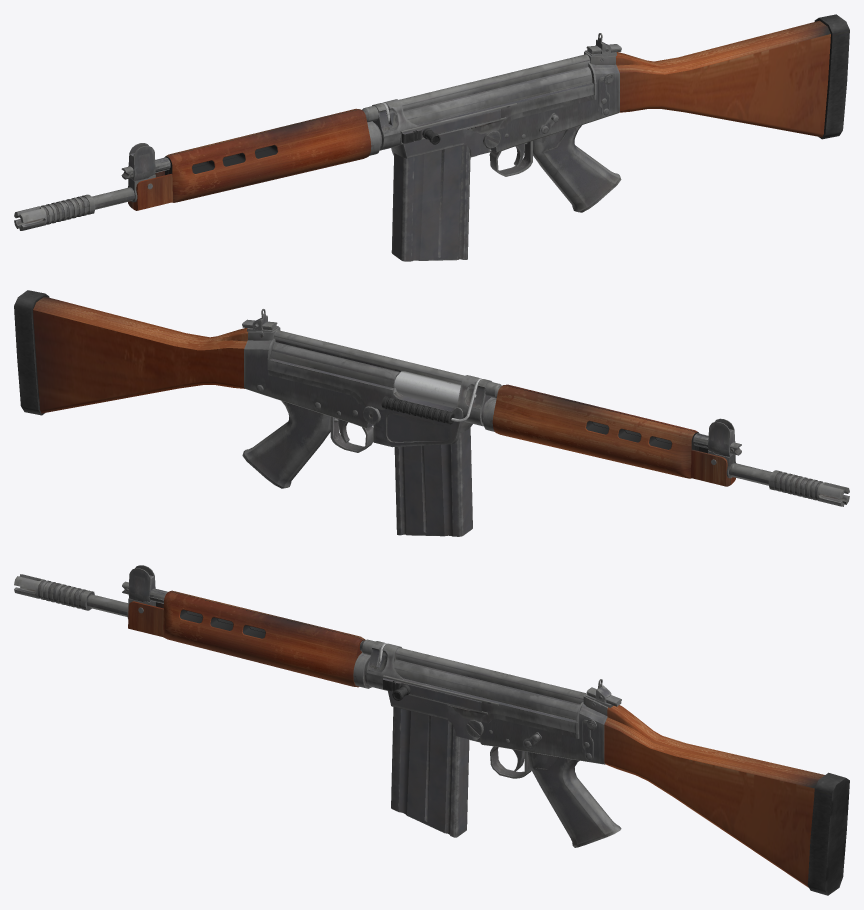
The model's file is FN-FAL.glb.
3 views of the same model, one above another, from view 1: azimuth 30°, elevation 25°; view 2: azimuth 150°, elevation 25°; view 3: azimuth 330°, elevation 25° (orthographic).
Parts seen in each view (by area): view 1: body, mag, charging; view 2: body, mag, ejector_hatch, holder; view 3: body, mag, charging.
Part boxes in pixels (box(x1,y1,x2,y2)): body: box(14, 14, 849, 230); mag: box(391, 145, 470, 261); charging: box(402, 109, 500, 144); body: box(14, 290, 849, 506); mag: box(394, 427, 472, 536); ejector_hatch: box(394, 371, 460, 408); holder: box(381, 378, 481, 424); body: box(14, 565, 849, 895); mag: box(391, 707, 469, 837); charging: box(382, 678, 482, 711).
Bounding box in the file's own units: 2 × 0.4376 × 0.1499.
Materials: 5 (5 with a texture image).
